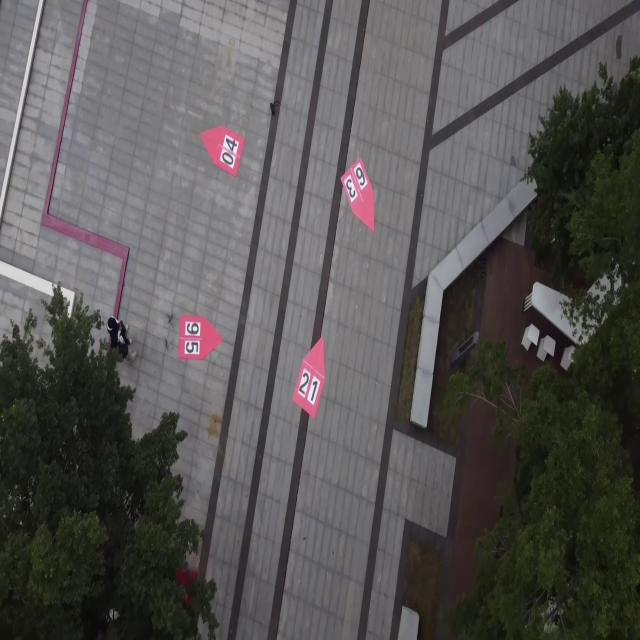-sign-: (292, 336, 326, 419), (340, 157, 376, 234), (200, 124, 245, 178), (178, 314, 222, 362)
